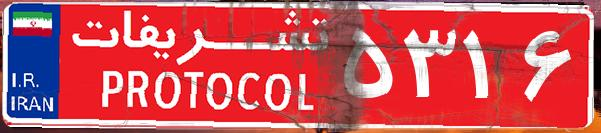1: (460, 20, 520, 115)
3: (400, 20, 460, 115)
5: (340, 20, 400, 115)
6: (520, 20, 580, 115)
تشریفات: (60, 8, 340, 125)
